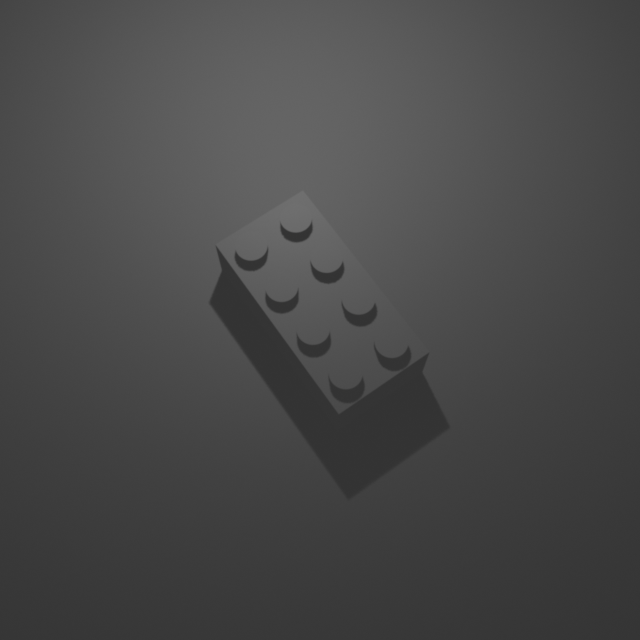lego_2x4: (214, 185, 431, 430)
